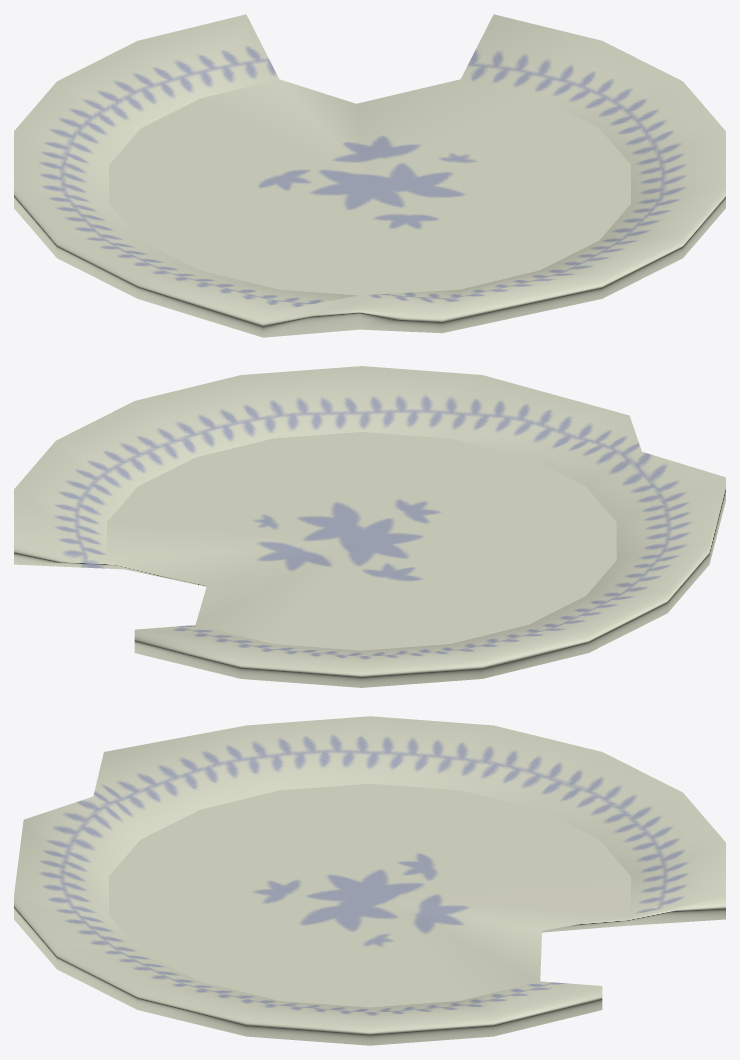
The model's file is Plate_Broke.fbx.
3 renders of one model, top to bottom at view 1: azimuth 30°, elevation 25°; view 2: azimuth 150°, elevation 25°; view 3: azimuth 270°, elevation 25°, orthographic. The views are drawn at different scales.
Visible parts, largest first — view 1: PLate_Broke; view 2: PLate_Broke; view 3: PLate_Broke.
Part boxes in pixels (x1,y1,x2,y2): PLate_Broke: (14,14,725,337); PLate_Broke: (14,366,725,687); PLate_Broke: (14,716,725,1045).
Size of the model in its own units: 0.7325 by 0.0572 by 0.7214.
